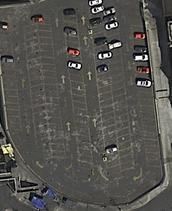parkingspot: (88, 0, 121, 170), (103, 5, 136, 172), (62, 8, 95, 171), (131, 24, 163, 168), (36, 22, 67, 159), (23, 22, 50, 149), (0, 43, 22, 131), (10, 132, 22, 148)
